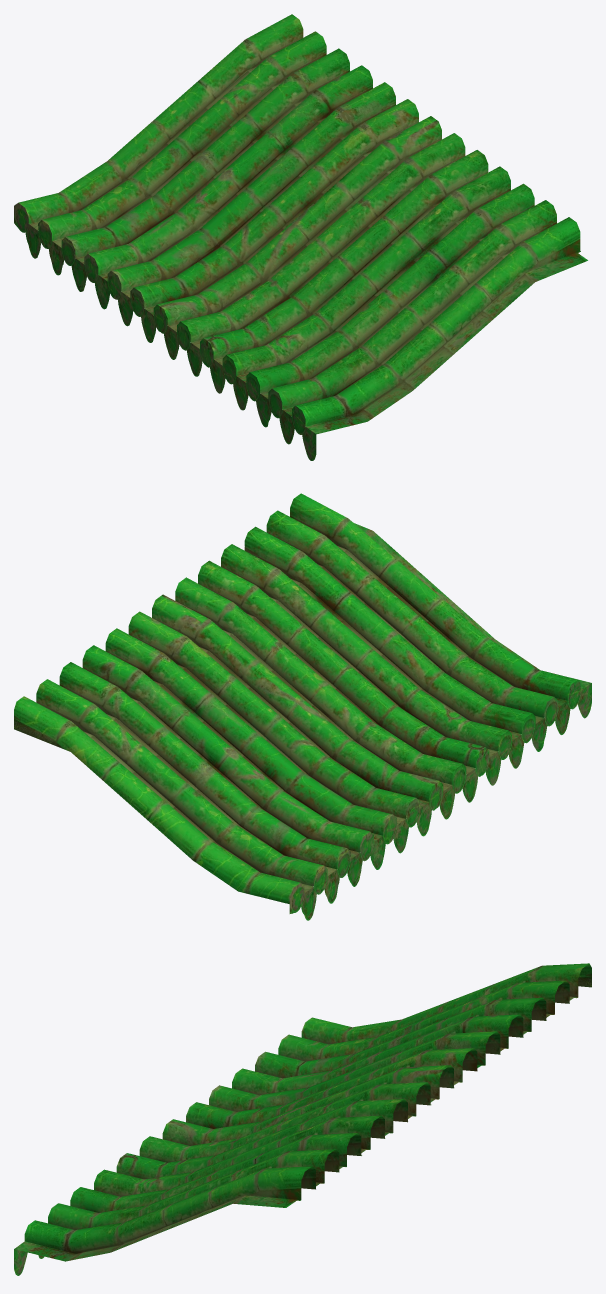
The model's file is reception-chinese-roof.glb.
3 renders of one model, top to bottom at view 1: azimuth 30°, elevation 25°; view 2: azimuth 150°, elevation 25°; view 3: azimuth 330°, elevation 25°, orthographic.
Visible parts, largest first — view 1: LP_ROOF_GateTown1; view 2: LP_ROOF_GateTown1; view 3: LP_ROOF_GateTown1.
Part boxes in pixels (left/top/right/bottom): LP_ROOF_GateTown1: left=14, top=14, right=587, bottom=460; LP_ROOF_GateTown1: left=14, top=493, right=591, bottom=920; LP_ROOF_GateTown1: left=14, top=963, right=591, bottom=1275.
Size of the model in its own units: 1.83 by 1.04 by 3.48.
1 material, 1 textured.
